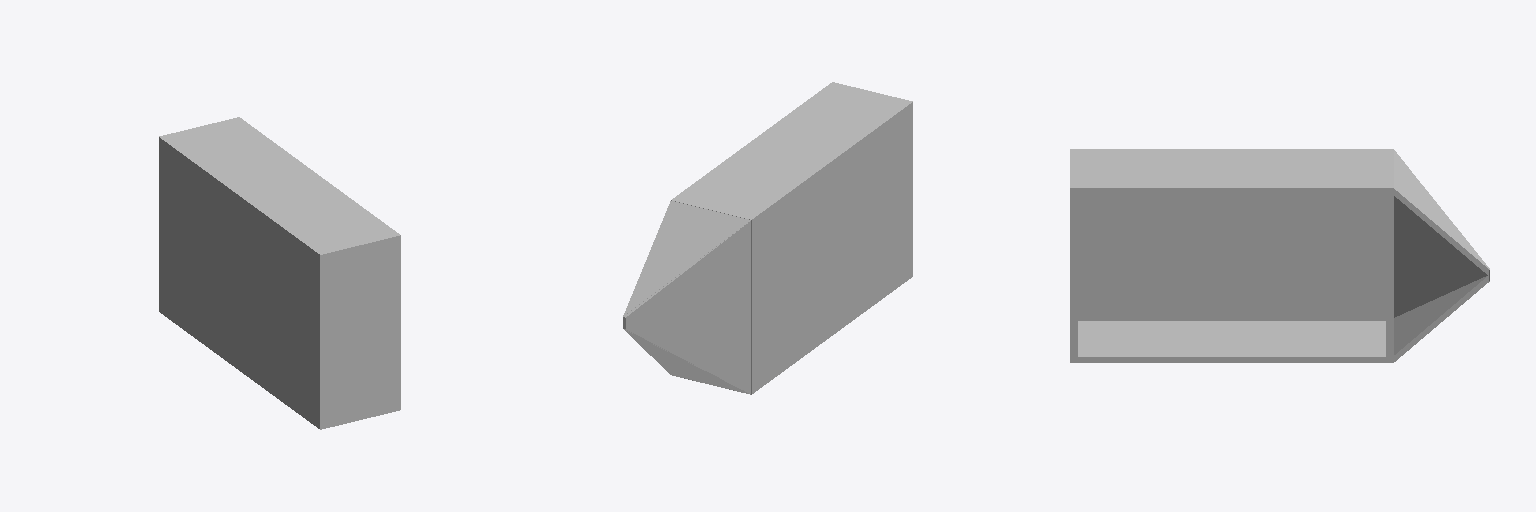
File: obj2_fora-escadas.obj
3 views of the same model, side by side, from view 1: azimuth 30°, elevation 25°; view 2: azimuth 150°, elevation 25°; view 3: azimuth 270°, elevation 25° (orthographic).
Parts seen in each view (by area): view 1: Cube.079_Cube.084; view 2: Cube.079_Cube.084, Cube.122_Cube.127, Cube.120_Cube.125, Cube.121_Cube.126; view 3: Cube.079_Cube.084, Cube.122_Cube.127, Cube.120_Cube.125, Cube.121_Cube.126.
Part boxes in pixels (x1,y1,x2,y2): Cube.079_Cube.084: (159, 117, 400, 429); Cube.079_Cube.084: (671, 82, 912, 394); Cube.122_Cube.127: (623, 221, 750, 393); Cube.120_Cube.125: (623, 201, 750, 316); Cube.121_Cube.126: (624, 329, 750, 394); Cube.079_Cube.084: (1070, 149, 1393, 362); Cube.122_Cube.127: (1394, 187, 1489, 317); Cube.120_Cube.125: (1394, 150, 1488, 275); Cube.121_Cube.126: (1394, 276, 1489, 361).
Size of the model in its own units: 2.36 by 4.87 by 10.57.